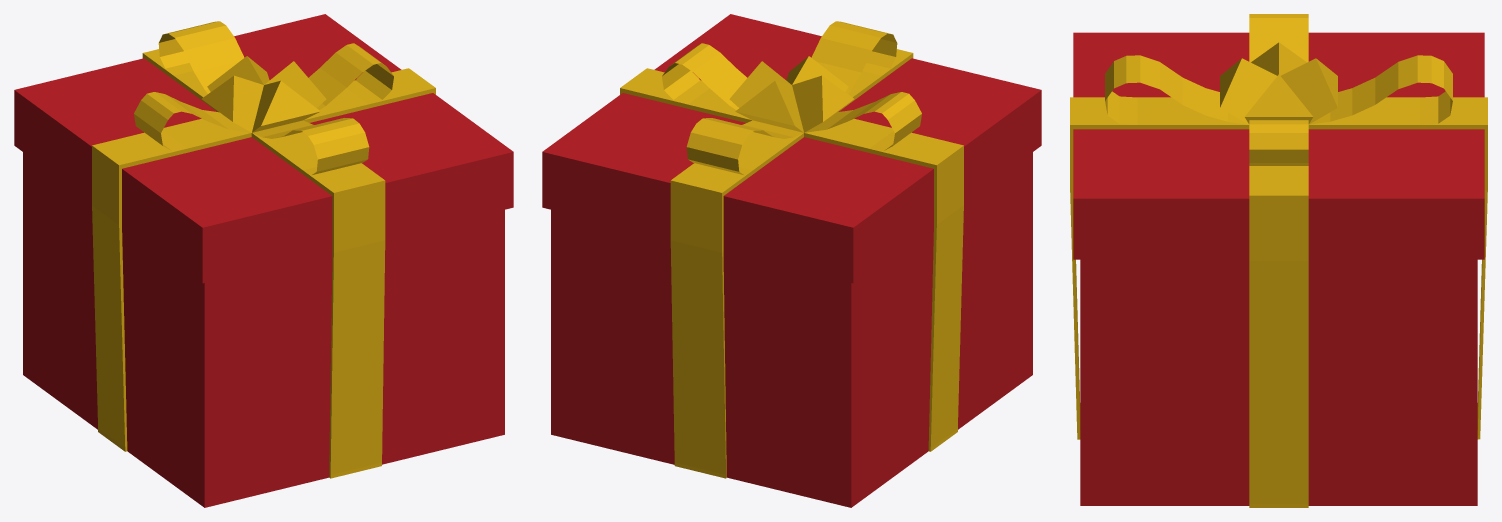
3 views of the same model, side by side, from view 1: azimuth 30°, elevation 25°; view 2: azimuth 150°, elevation 25°; view 3: azimuth 270°, elevation 25° (orthographic). The views are drawn at different scales.
Visible parts, largest first — view 1: Present; view 2: Present; view 3: Present.
Part boxes in pixels (bbox=[...]): Present: bbox=[14, 14, 513, 507]; Present: bbox=[542, 14, 1041, 507]; Present: bbox=[1070, 14, 1487, 507].
Bounding box in the file's own units: 164 × 166 × 171.
